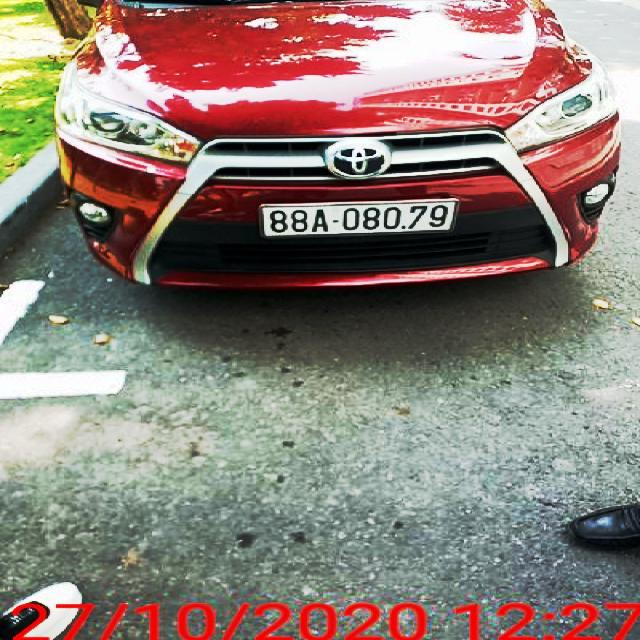license_plate: (261, 202, 458, 236)
